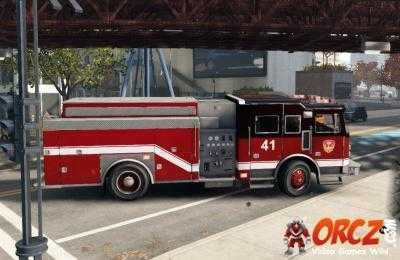Fire Truck: (29, 88, 364, 208)
